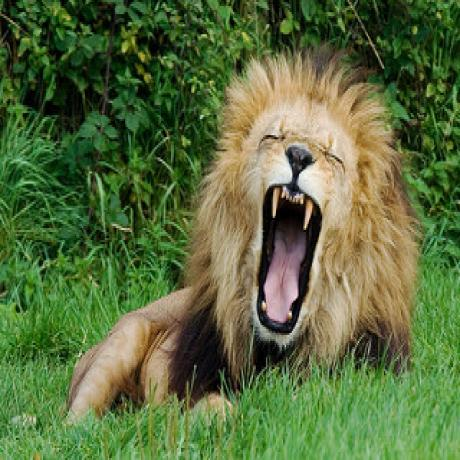Lion: (73, 51, 416, 444)
